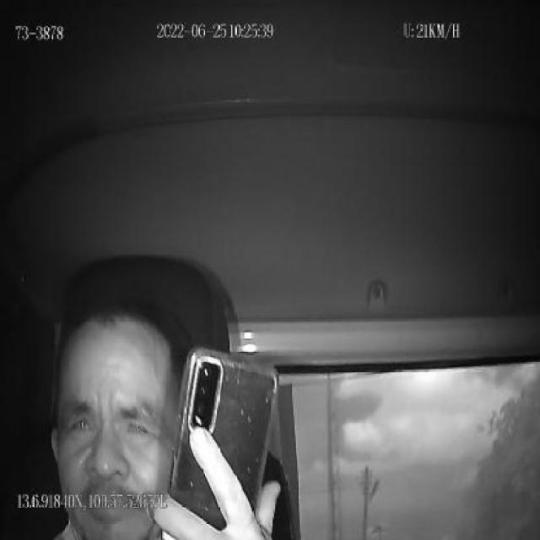phone: (167, 342, 276, 540)
